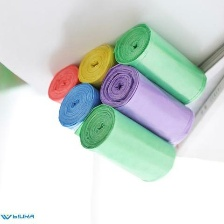plastic_bag: (97, 61, 202, 149), (113, 18, 211, 108), (75, 101, 177, 187), (50, 83, 110, 136), (42, 61, 90, 114), (73, 40, 118, 89)
